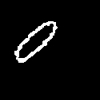chain: (15, 21, 56, 62)
